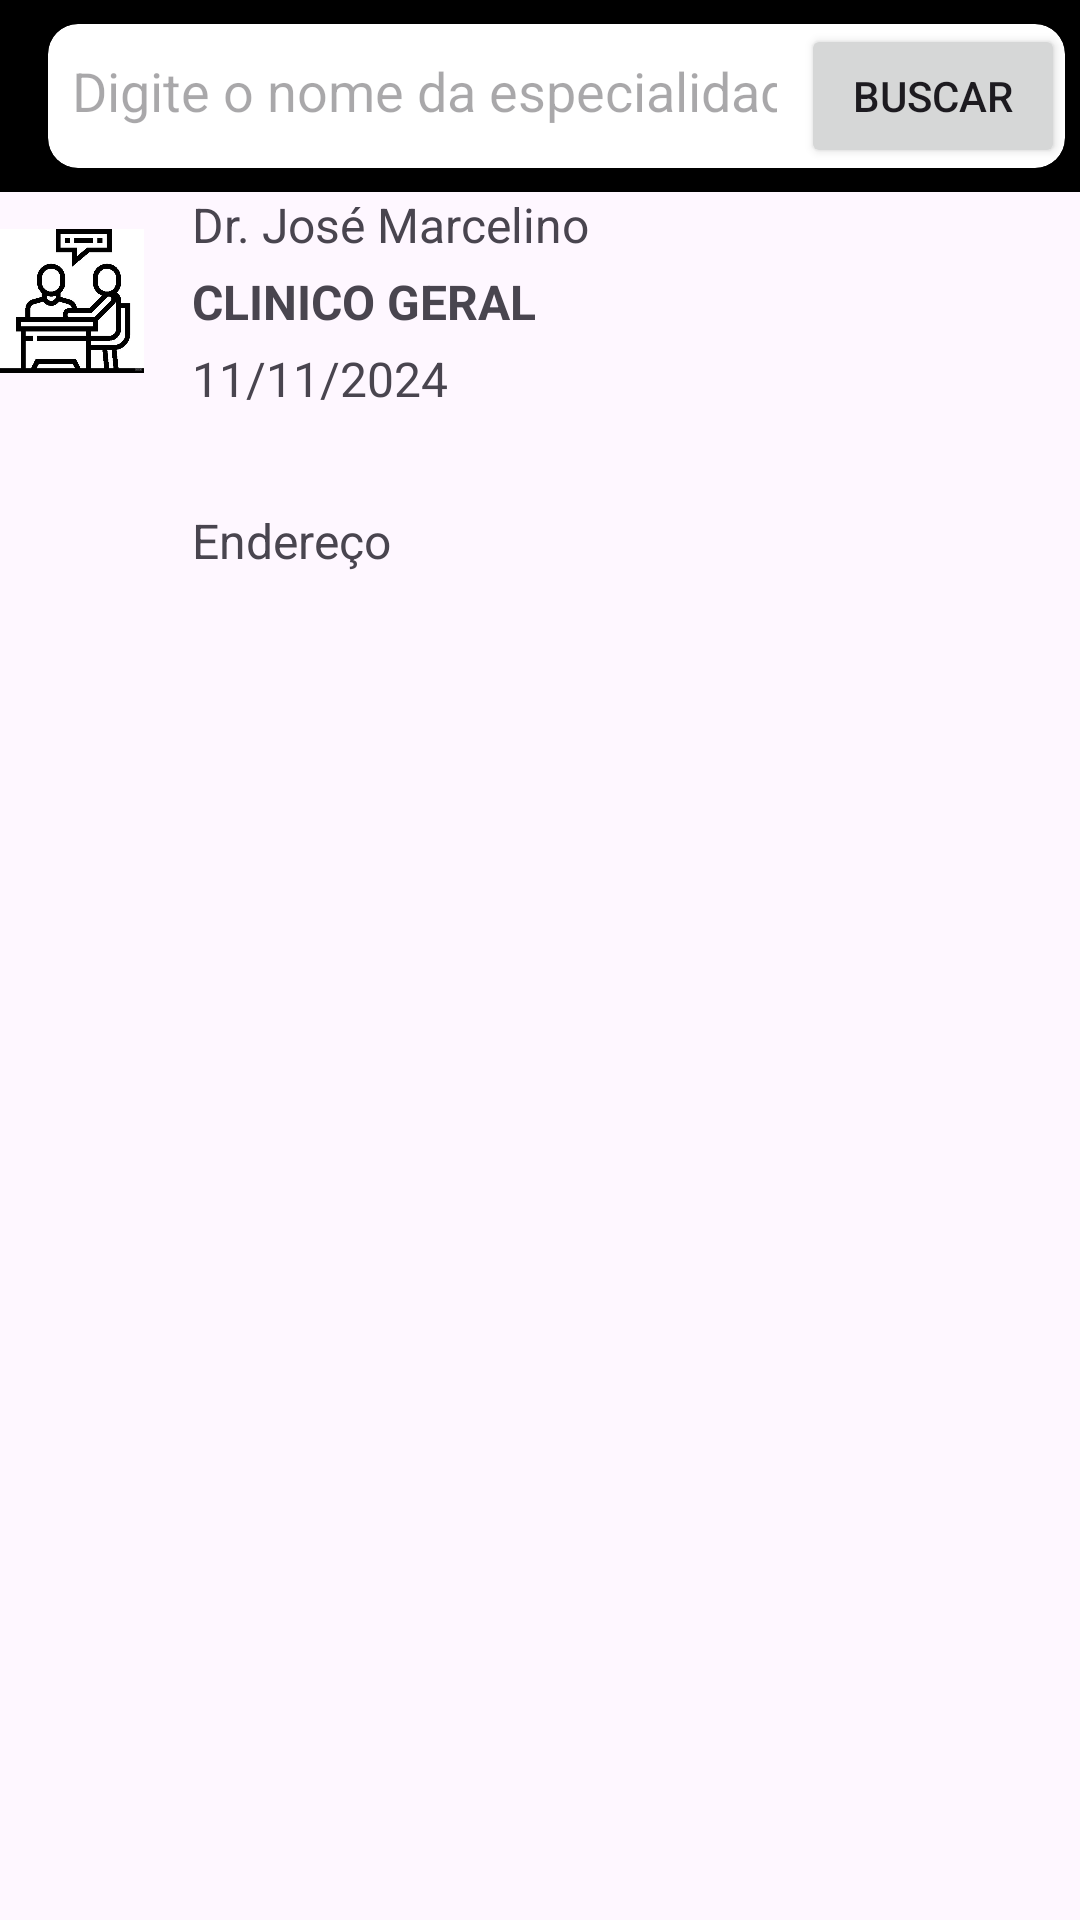

Where icons sit on this 1080w x 1920h app screen, as (x1, y1, x2, y2):
consulta: (0, 229, 144, 373)
